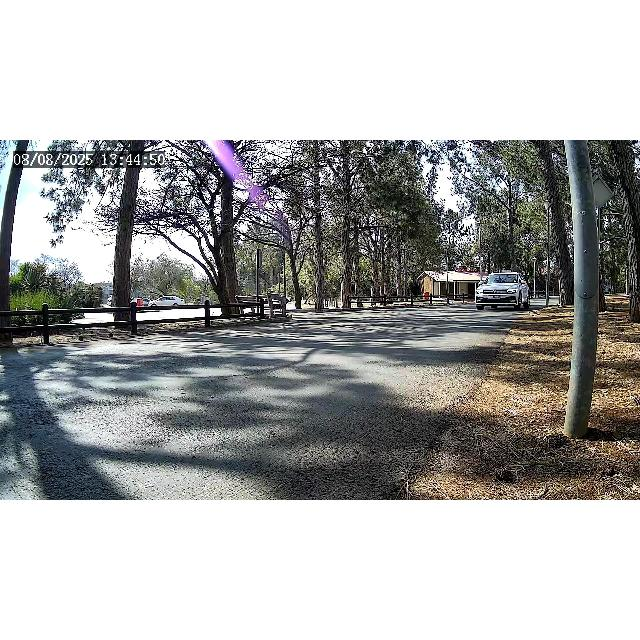car: (475, 270, 531, 312)
plate: (488, 295, 502, 299)
